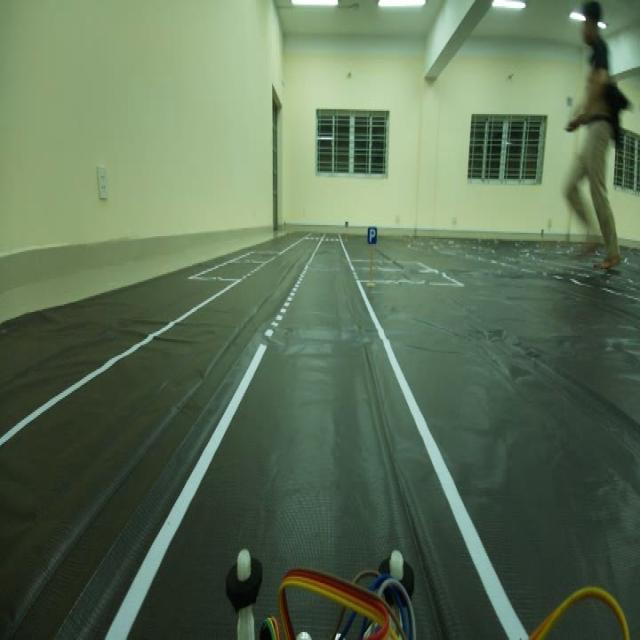parking: (364, 220, 378, 249)
